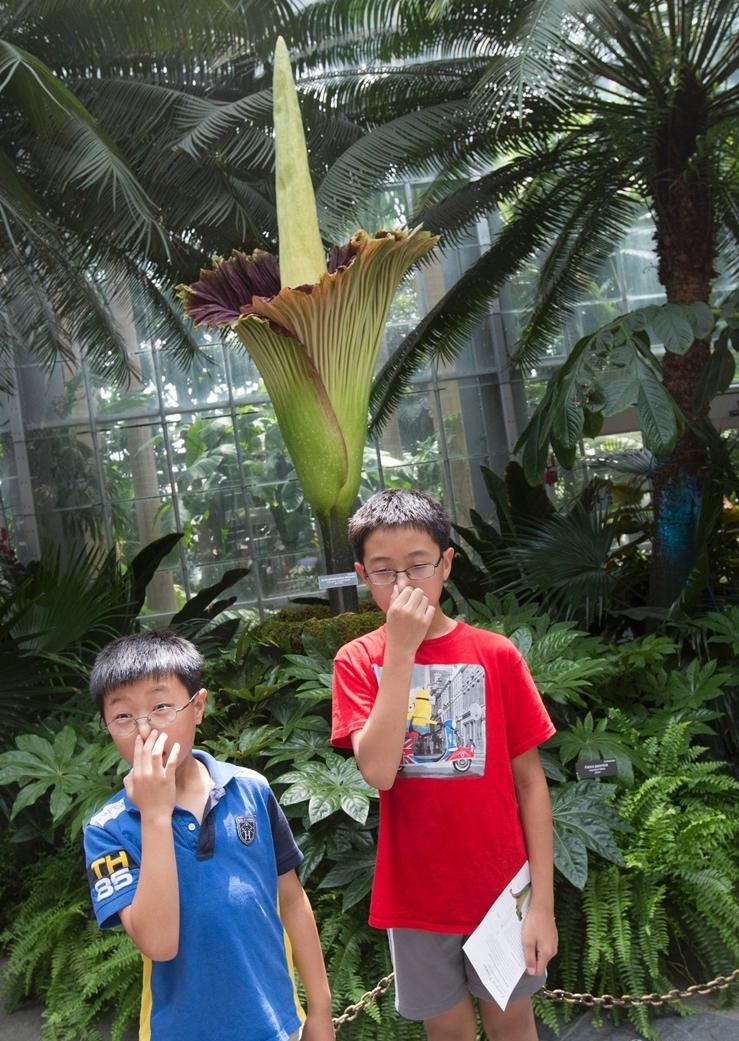face_mask: (108, 663, 190, 785), (365, 521, 438, 631)
